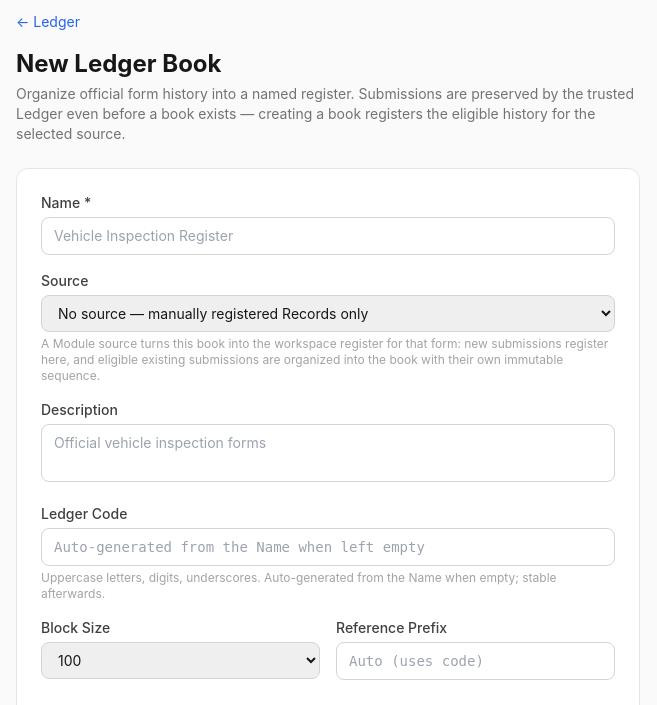
Test: CreateLedgerBookPage › keeps user-typed code/prefix when the source changes afterwards
This screenshot has width=657, height=705.
In the field labelled "Ledger Code": (328, 547) [41,528,615,566], type "MYCUSTOM"
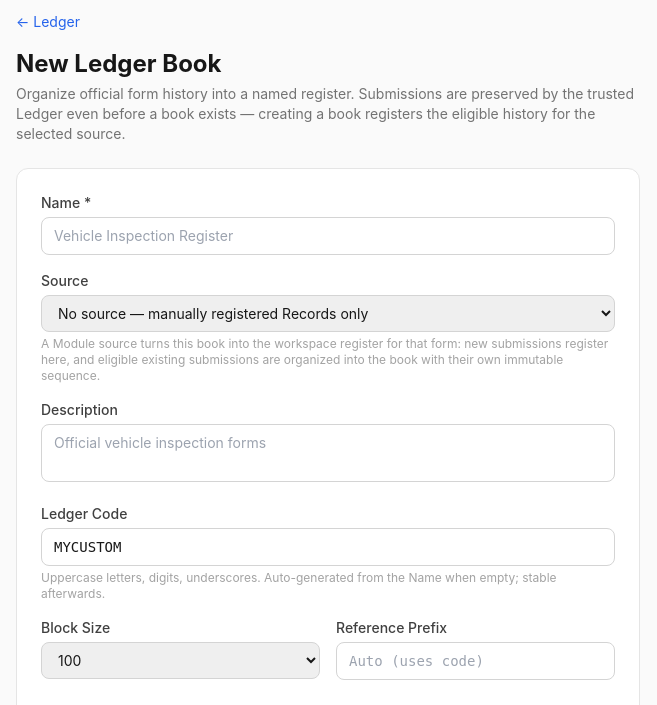
In the field labelled "Reference Prefix": (476, 661) [336,642,615,680], type "MINE"
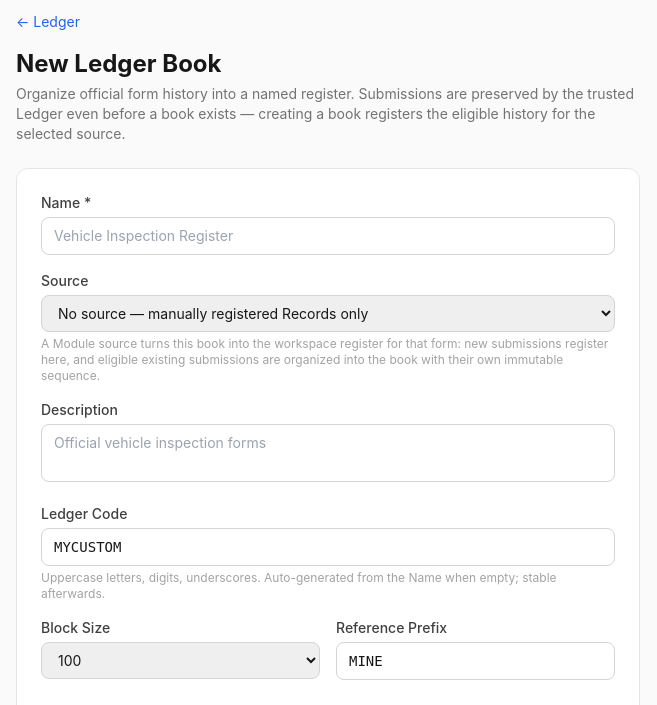
Select "Room Inspection (ROOMINS)" in the dropdown labelled "Source": (328, 314) [41,295,615,332]
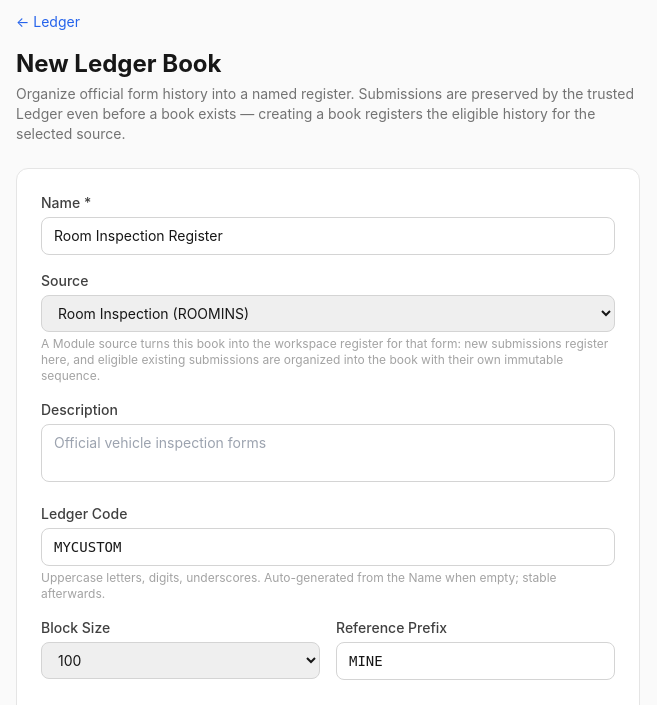
Check: the field labelled "Name *" holds "Room Inspection Register", box [41,217,615,255]
